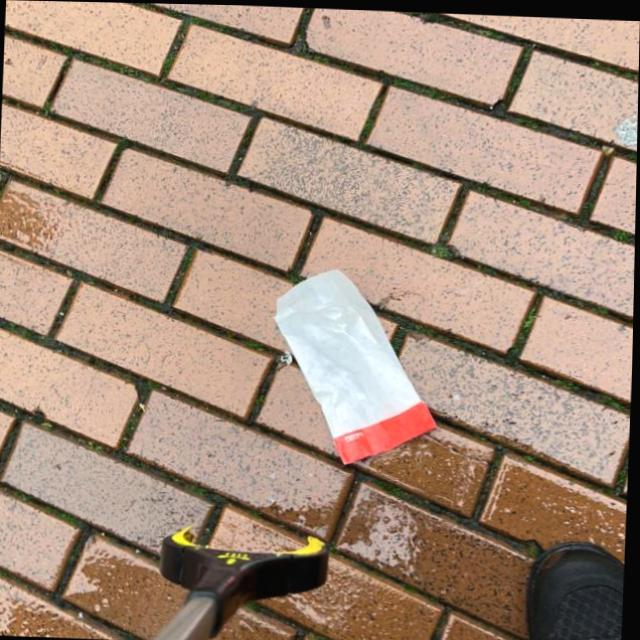Paper: (268, 263, 447, 468)
